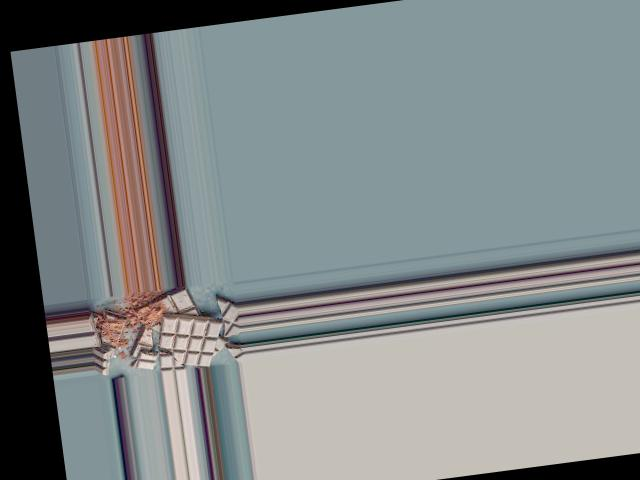chocolate: (156, 307, 229, 372)
